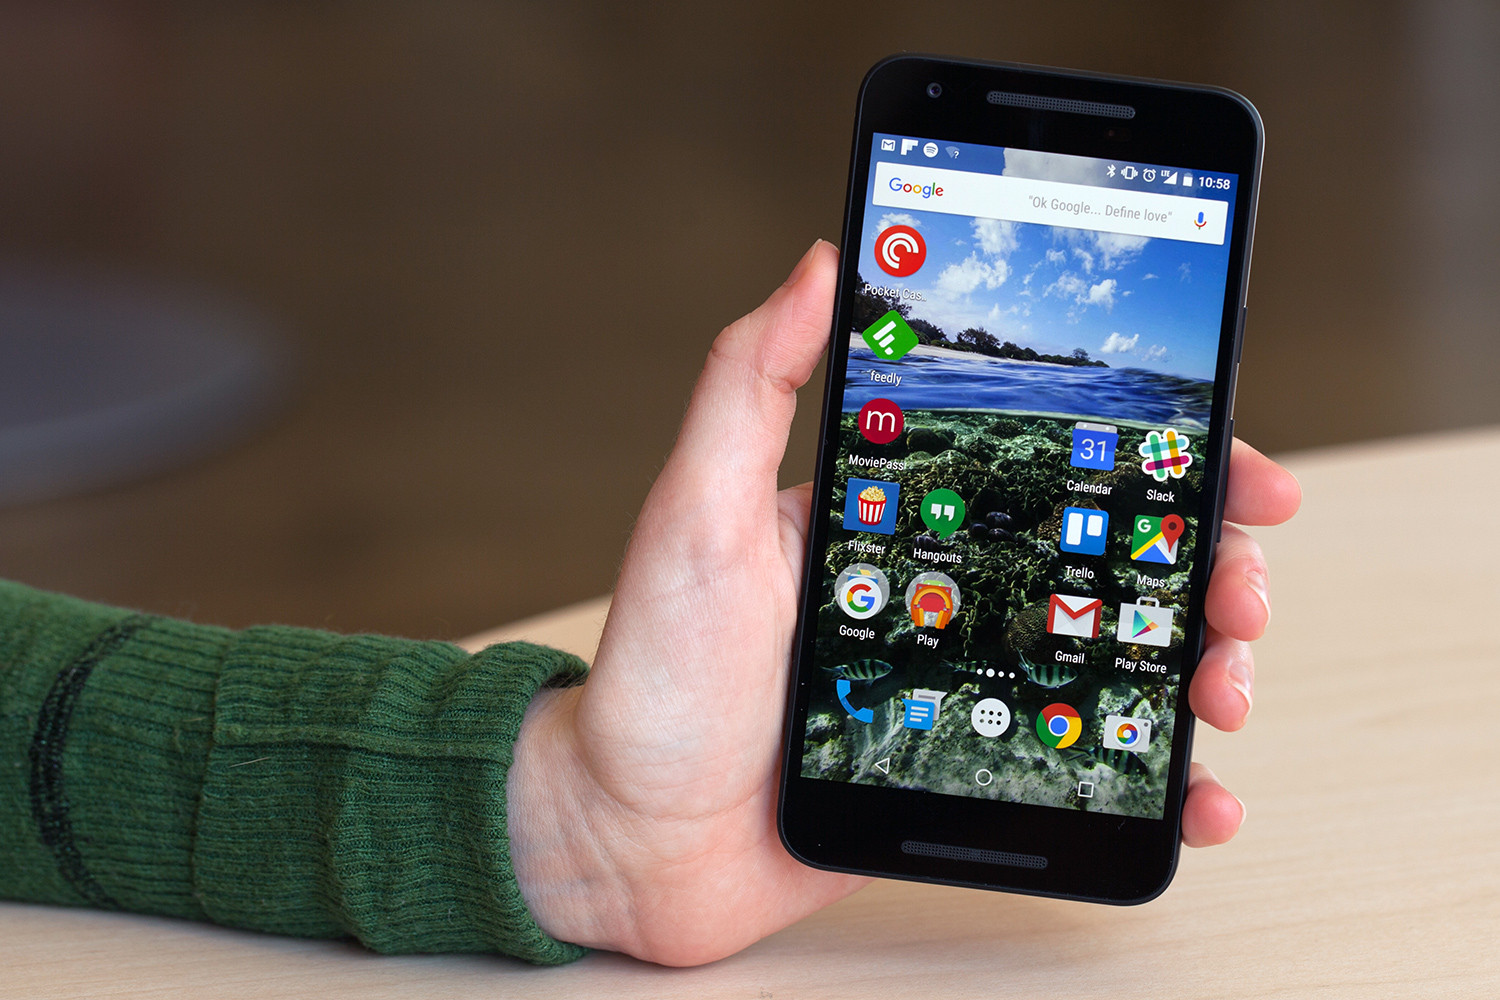smartphone: (775, 51, 1265, 908)
